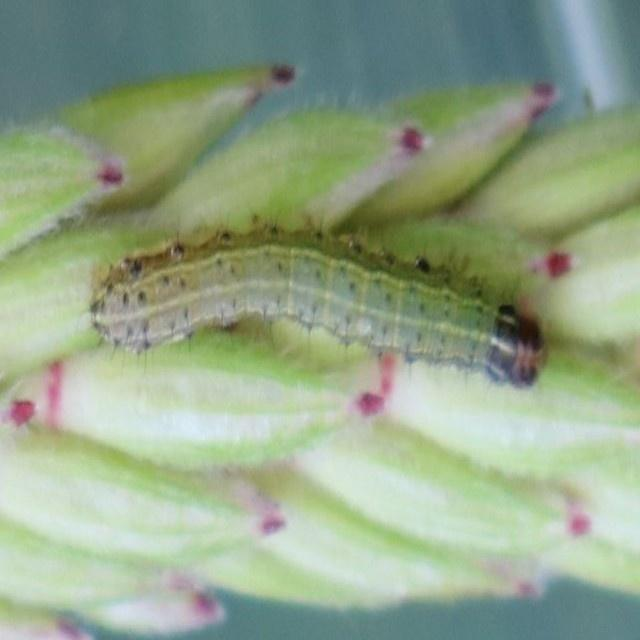gusano_cogollero: (94, 237, 548, 387)
